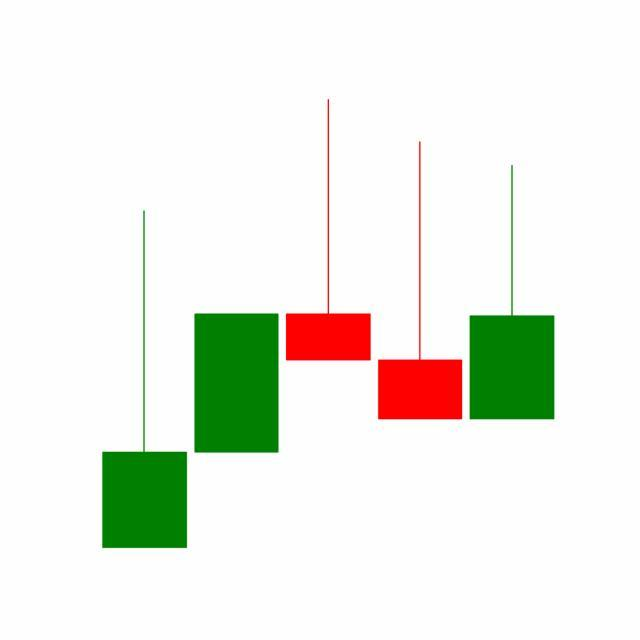Gravestone Doji: (374, 139, 468, 422)
